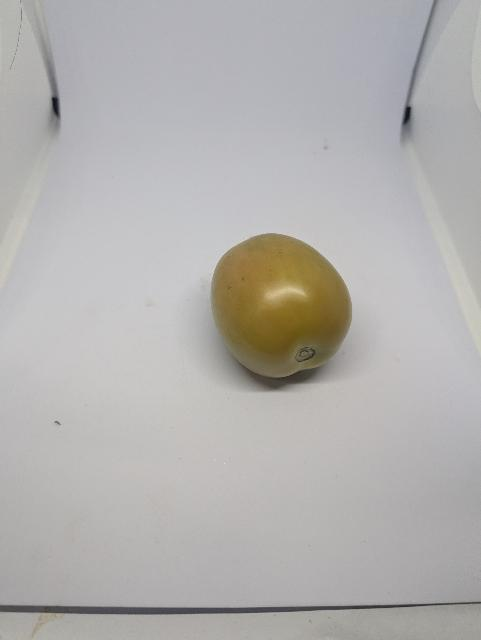breaker: (209, 234, 356, 381)
